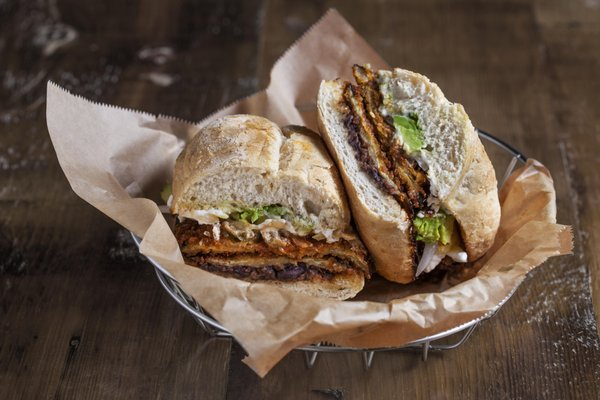soup: (316, 63, 502, 284), (164, 112, 370, 298)
